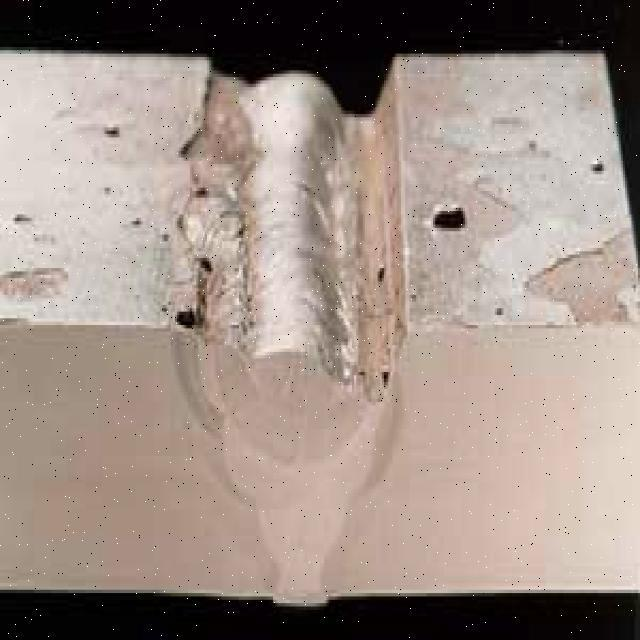Bad Welding: (167, 57, 261, 377)
